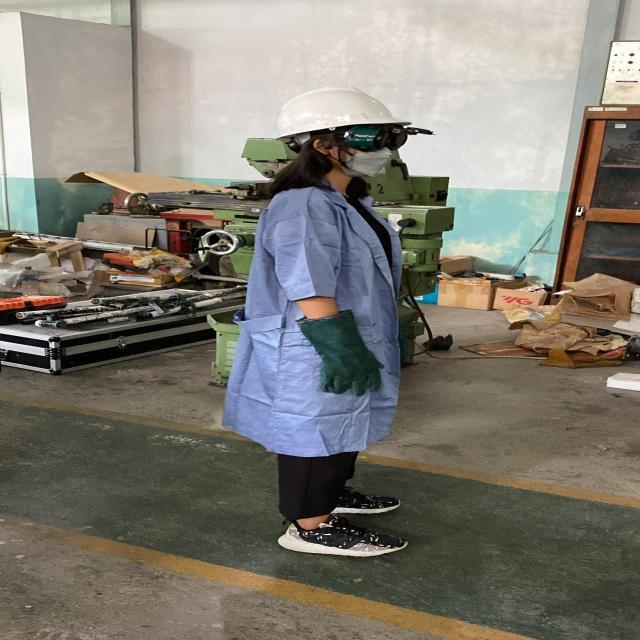glasses: (309, 122, 439, 154)
